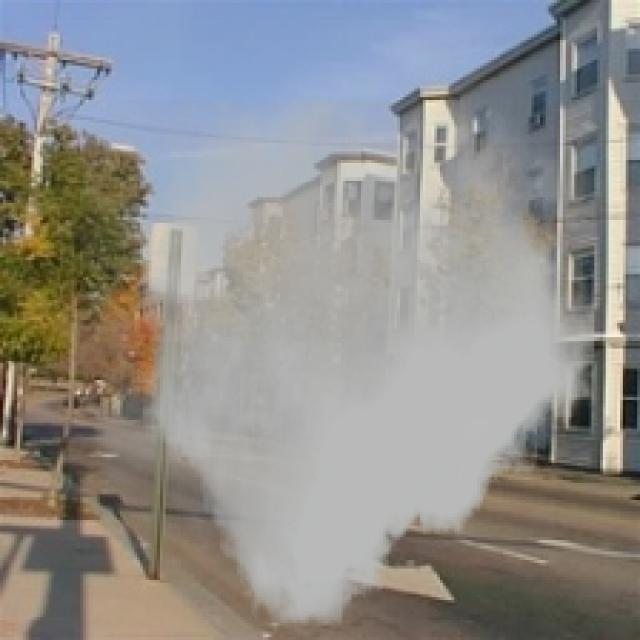smoke: (80, 100, 603, 626)
